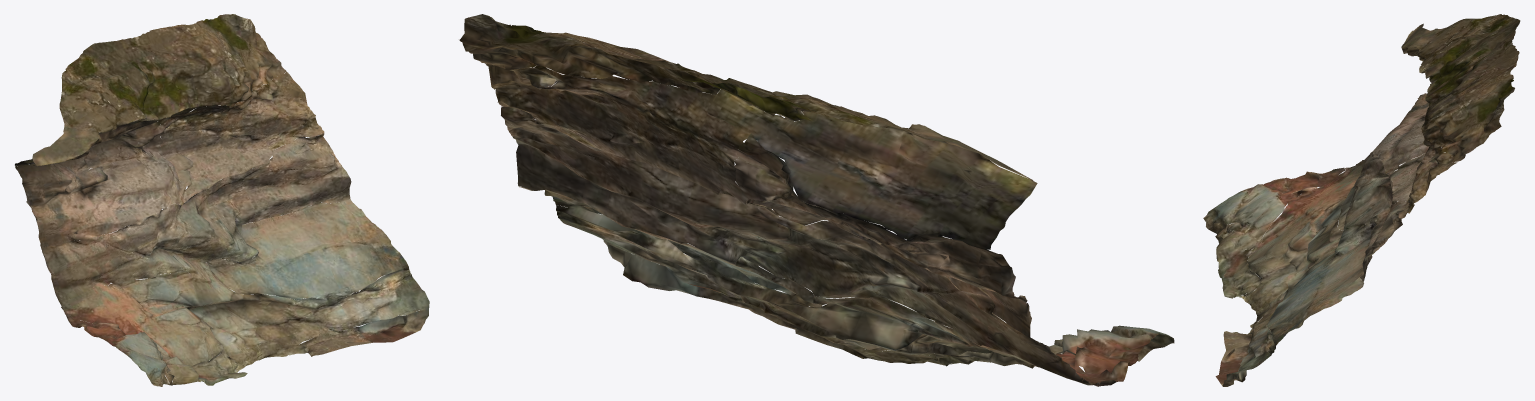
The model's file is rock_face_01.glb.
The picture shows the model from 3 angles, left to right: view 1: azimuth 30°, elevation 25°; view 2: azimuth 150°, elevation 25°; view 3: azimuth 270°, elevation 25°; orthographic projection. The views are drawn at different scales.
Visible parts, largest first — view 1: rock_face_01; view 2: rock_face_01; view 3: rock_face_01.
Boxes of the visible parts, x1=… form: rock_face_01: x1=15, y1=14, x2=429, y2=386; rock_face_01: x1=459, y1=14, x2=1174, y2=386; rock_face_01: x1=1203, y1=14, x2=1520, y2=386.
Size of the model in its own units: 4.95 by 3.57 by 3.83.
Materials: 1 (1 with a texture image).
